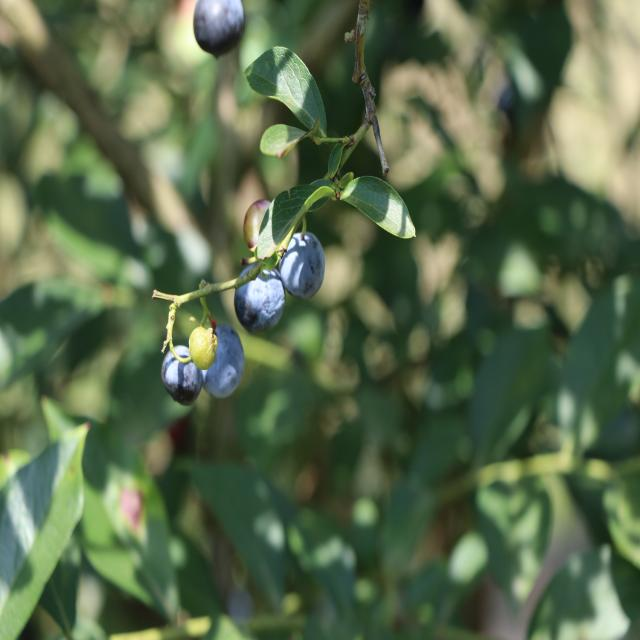blueberry: (233, 256, 288, 339), (277, 229, 337, 305), (200, 318, 250, 402), (192, 0, 252, 59), (161, 342, 204, 408)
blueberry-unripe: (241, 196, 276, 259), (188, 320, 217, 369)
